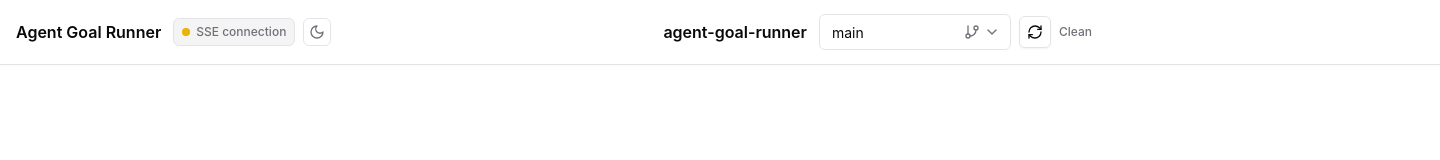
Test: TopBar › refreshes branch state after initial load
Expected: the dropdown named "Git branch" holds "main", [820,14,956,50]
Click the button named "Refresh Git branches" at (1035, 32), box [1019,16,1051,48]
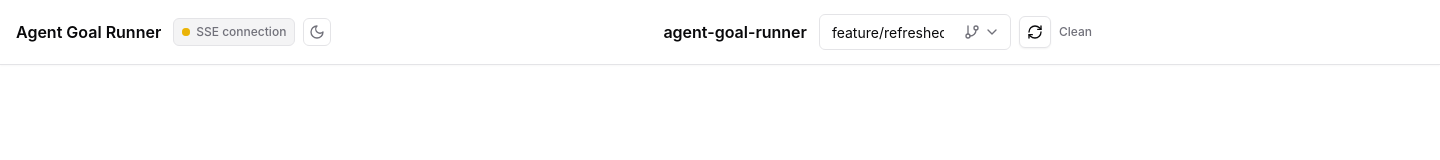
Expected: the dropdown named "Git branch" holds "feature/refreshed", [820,14,956,50]
